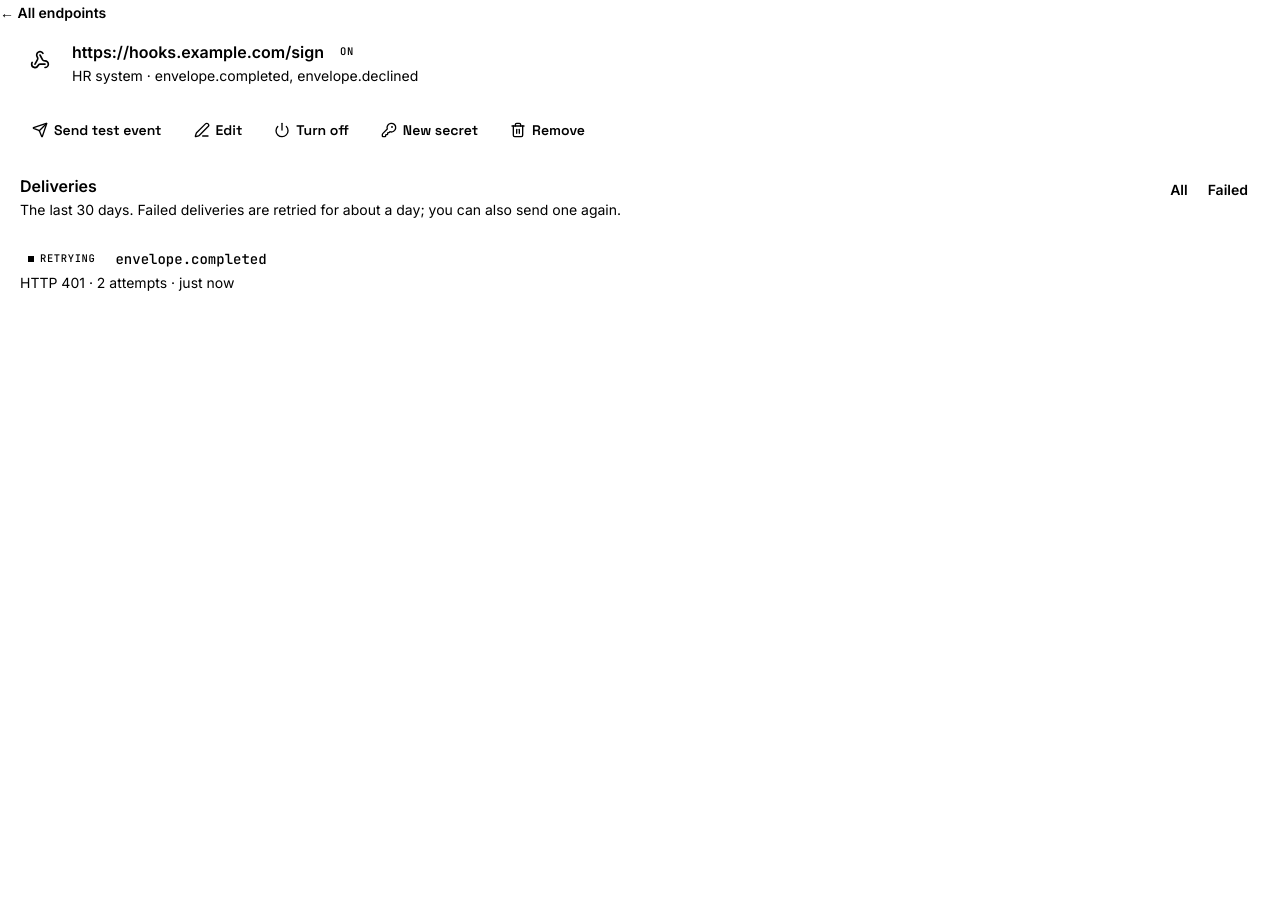
it: WebhookDetail › rolls the secret only after asking, and shows the new one once
This screenshot has width=1280, height=900.
Click the button "New secret". click: click(429, 130)
box: 369,114 -> 490,146
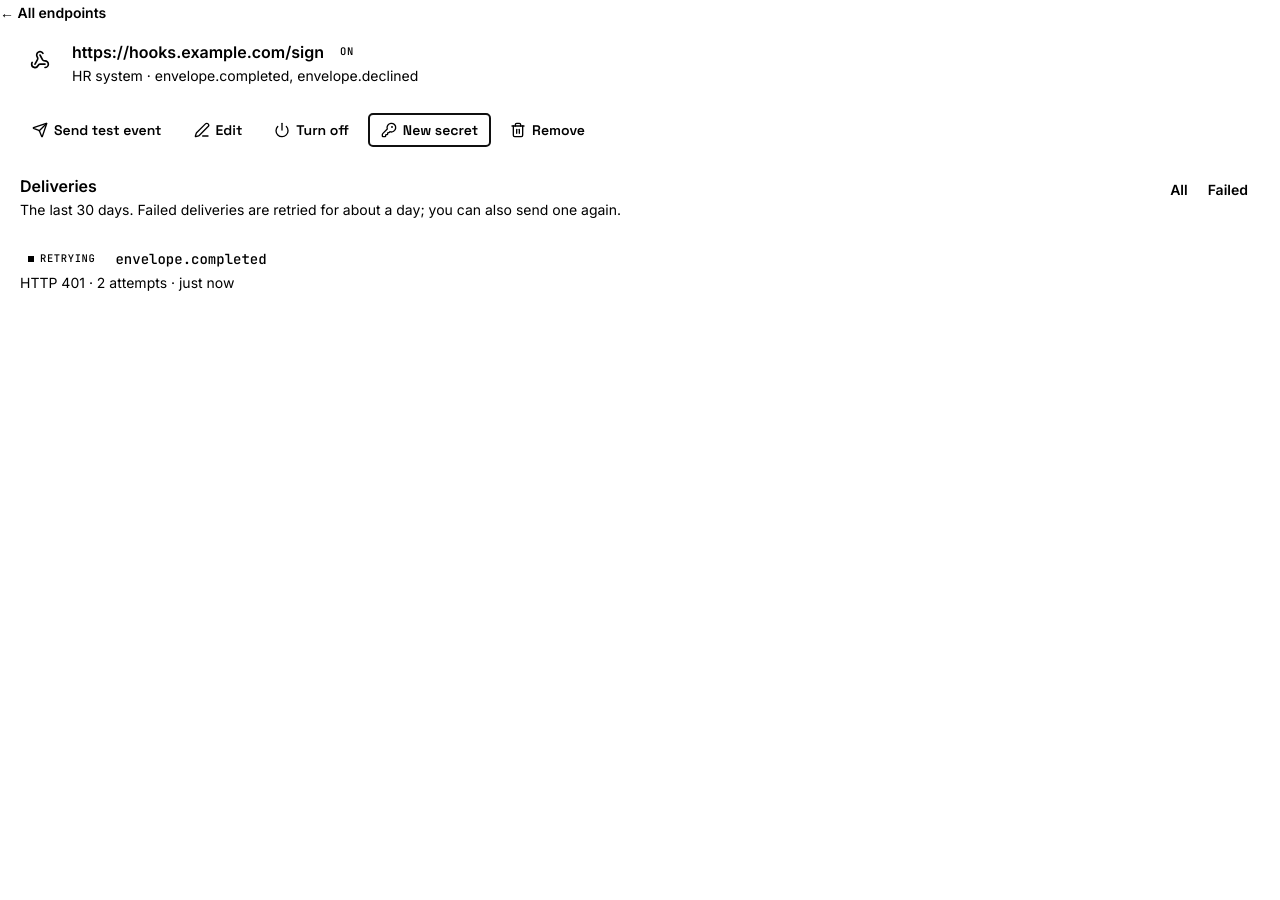
Click the button "New secret". click: click(429, 130)
box: 369,114 -> 490,146
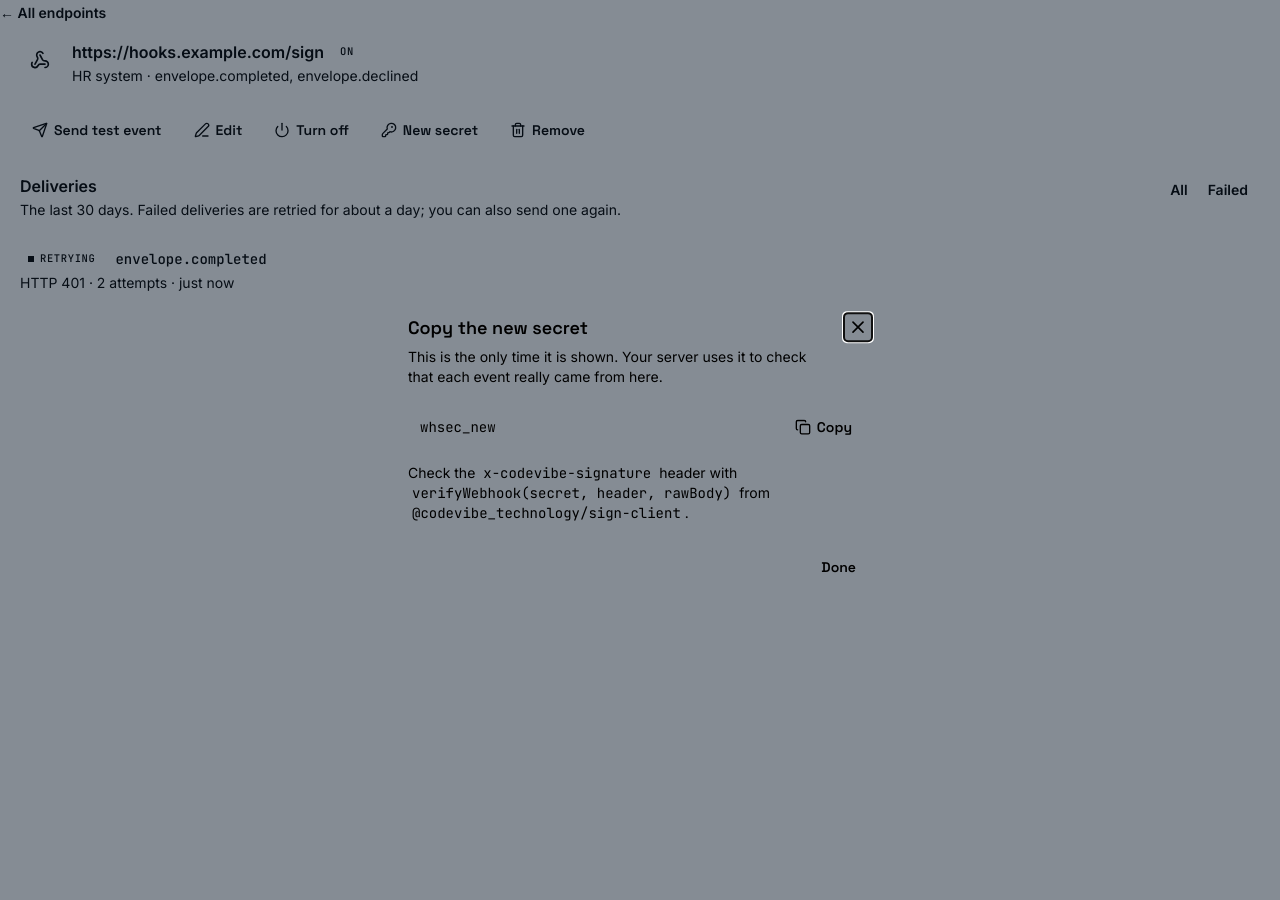
Expected: the text with test id "webhook-secret" reads "whsec_new", 420,418 -> 496,436
